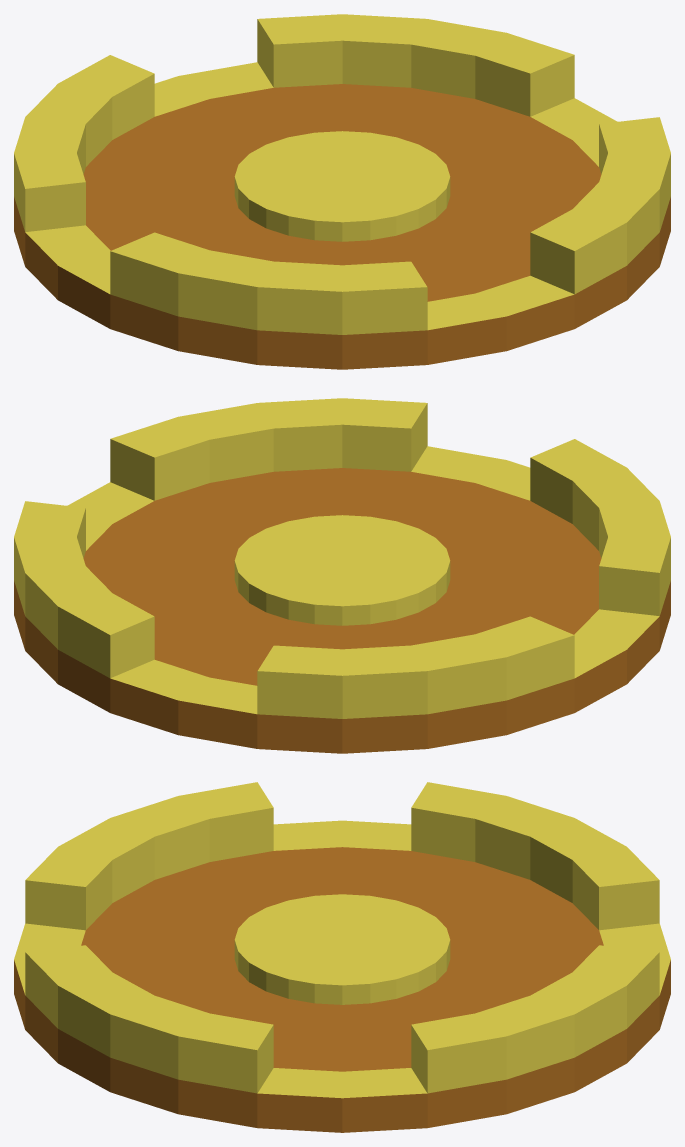
The model's file is Tile_2.fbx.
3 views of the same model, one above another, from view 1: azimuth 30°, elevation 25°; view 2: azimuth 150°, elevation 25°; view 3: azimuth 270°, elevation 25° (orthographic).
Visible parts, largest first — view 1: Cylinder; view 2: Cylinder; view 3: Cylinder.
Part boxes in pixels (<box>): Cylinder: <box>14,14,670,369</box>; Cylinder: <box>14,398,670,753</box>; Cylinder: <box>14,782,670,1132</box>.
Bounding box in the file's own units: 200 × 26.18 × 200.
